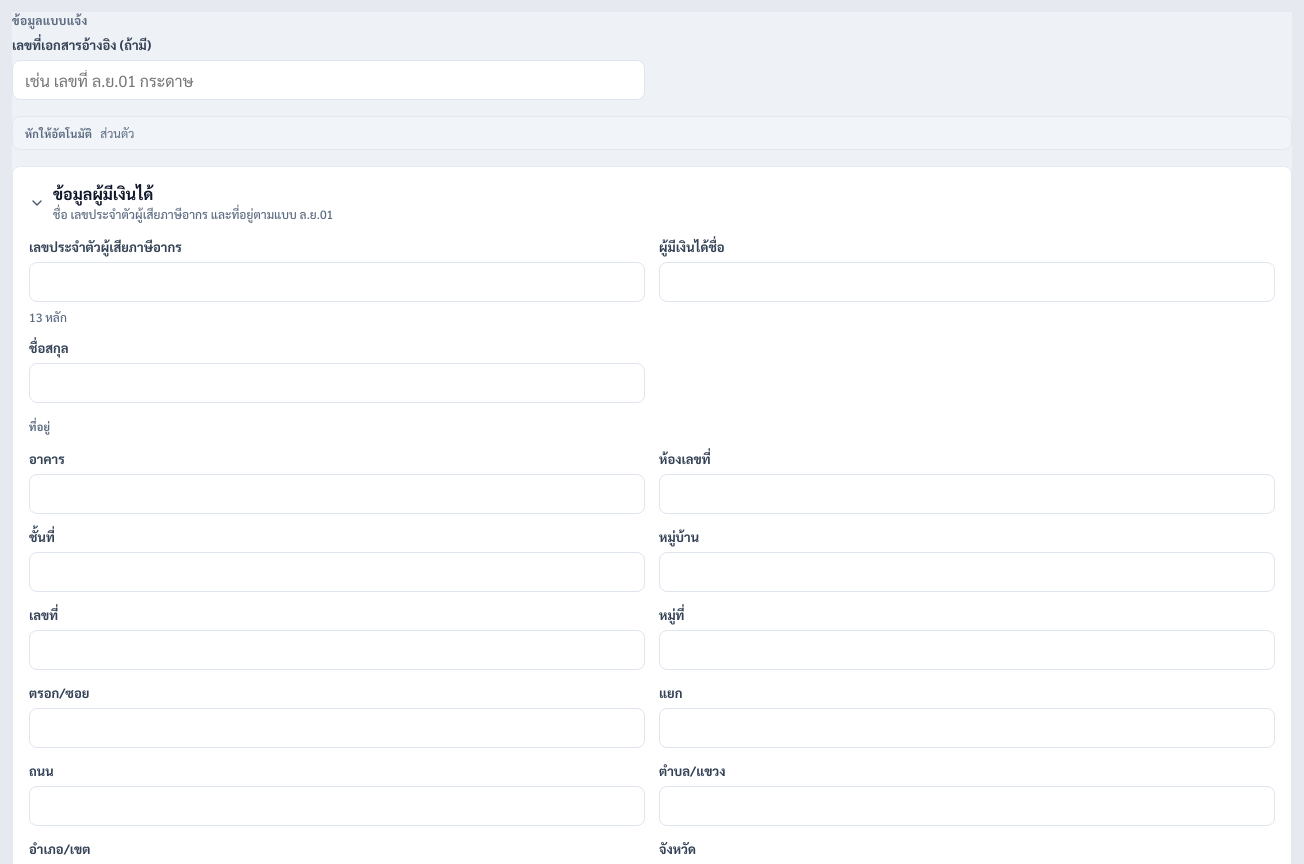
Test case: TaxAllowanceForm — the signed form gates submission › shows the field error as soon as the field is left, not only at submit
Type "123" into the field labelled "เลขประจำตัวผู้เสียภาษีอากร" at (337, 282), box top-left (29, 262), bottom-right (645, 302)
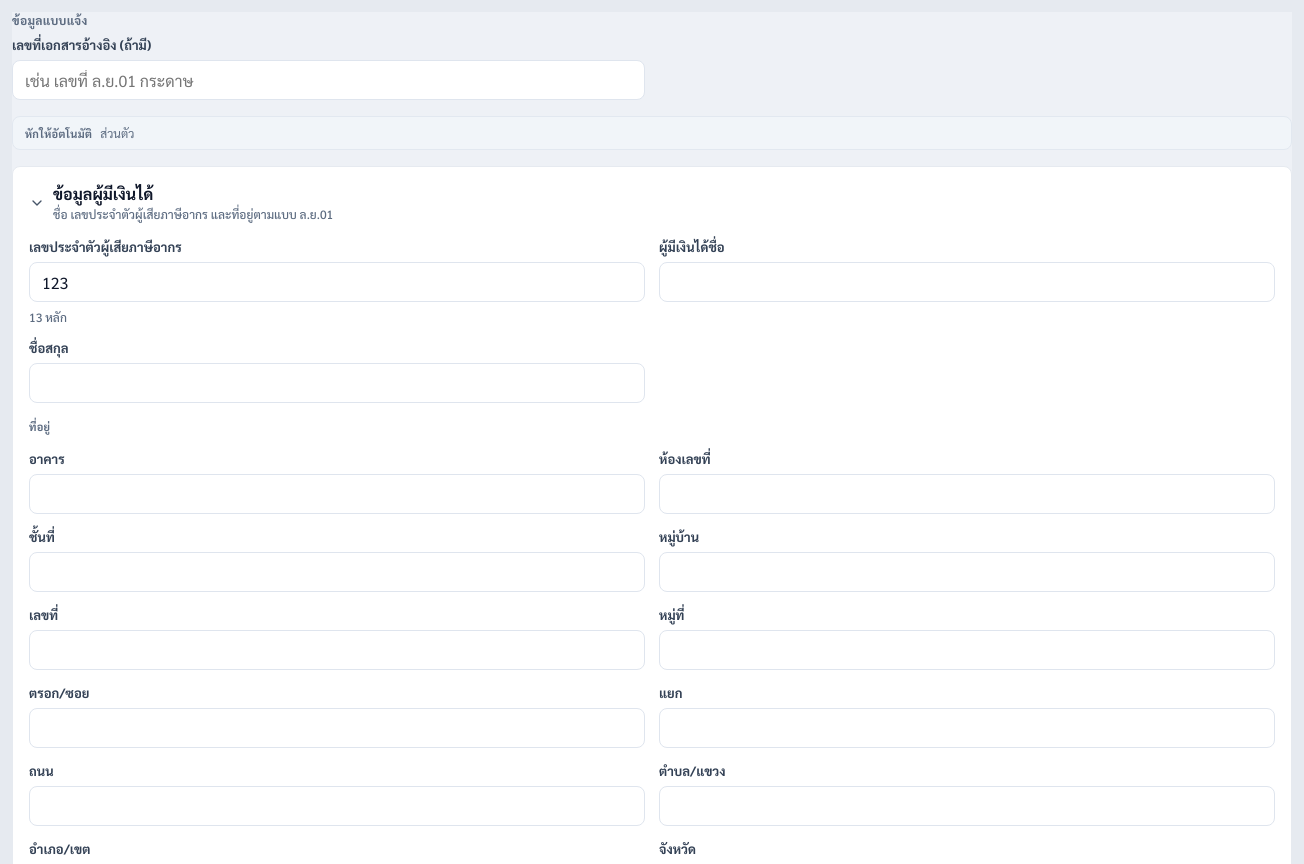
Leave the field labelled "เลขประจำตัวผู้เสียภาษีอากร", box top-left (29, 262), bottom-right (645, 302)
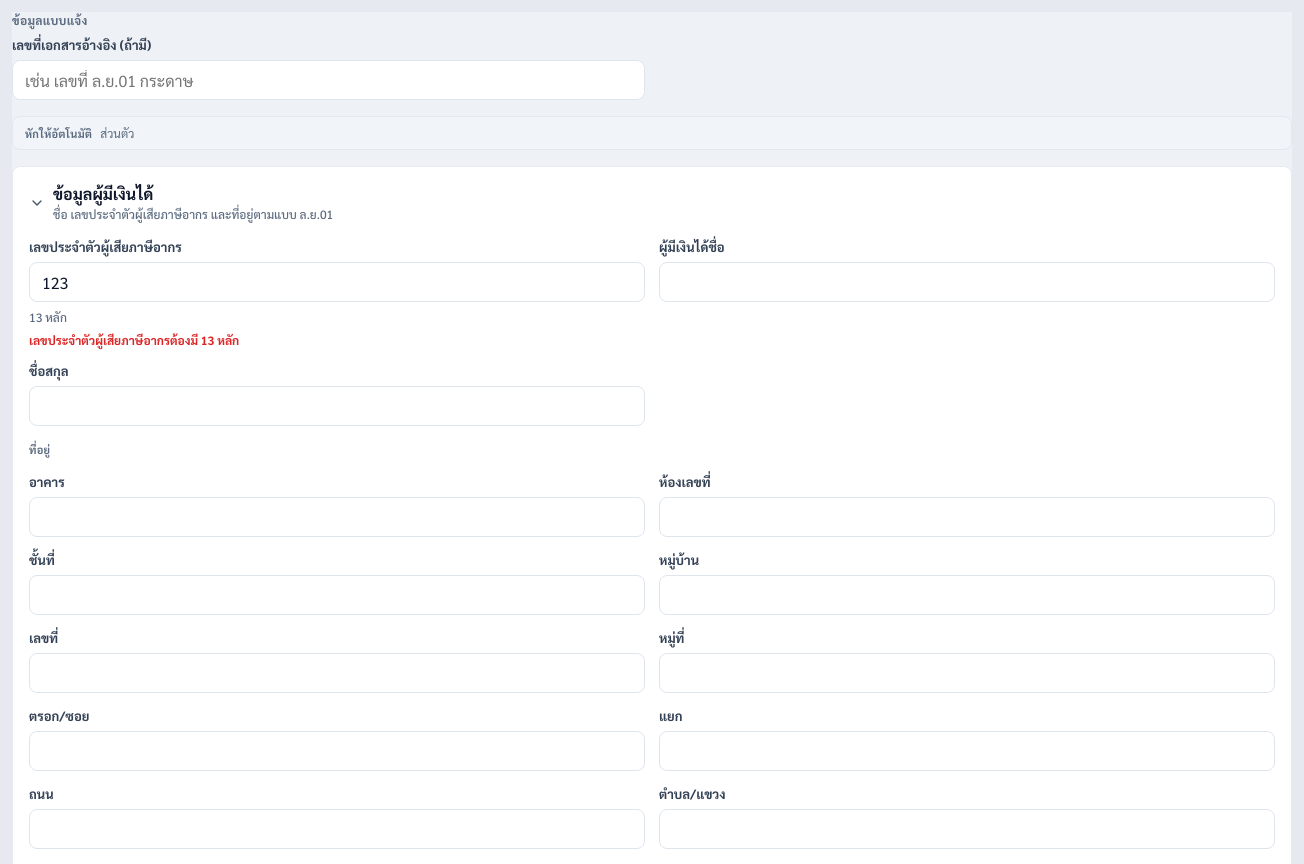
Result: the text "เลขประจำตัวผู้เสียภาษีอากรต้องมี 13 หลัก" is shown at top-left (29, 332), bottom-right (239, 348)
